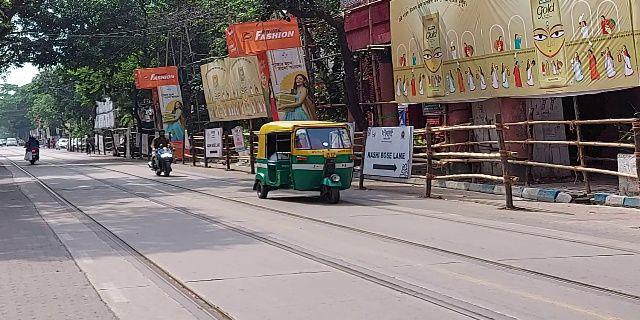Autorickshaw: (247, 120, 356, 205)
Motorbike: (143, 127, 178, 179), (22, 131, 43, 168)
